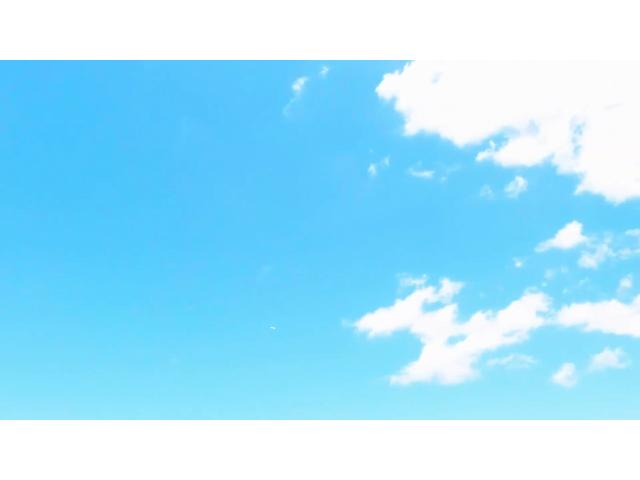Anti-Drone: (264, 321, 284, 335)
